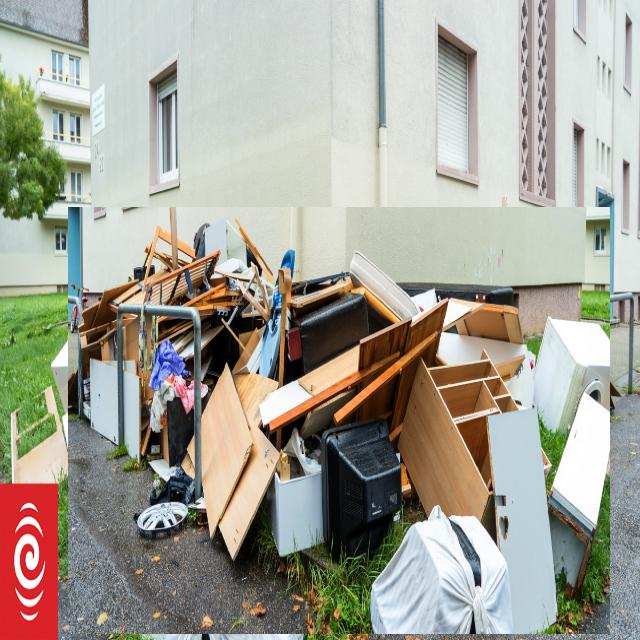dumping: (68, 207, 610, 634)
